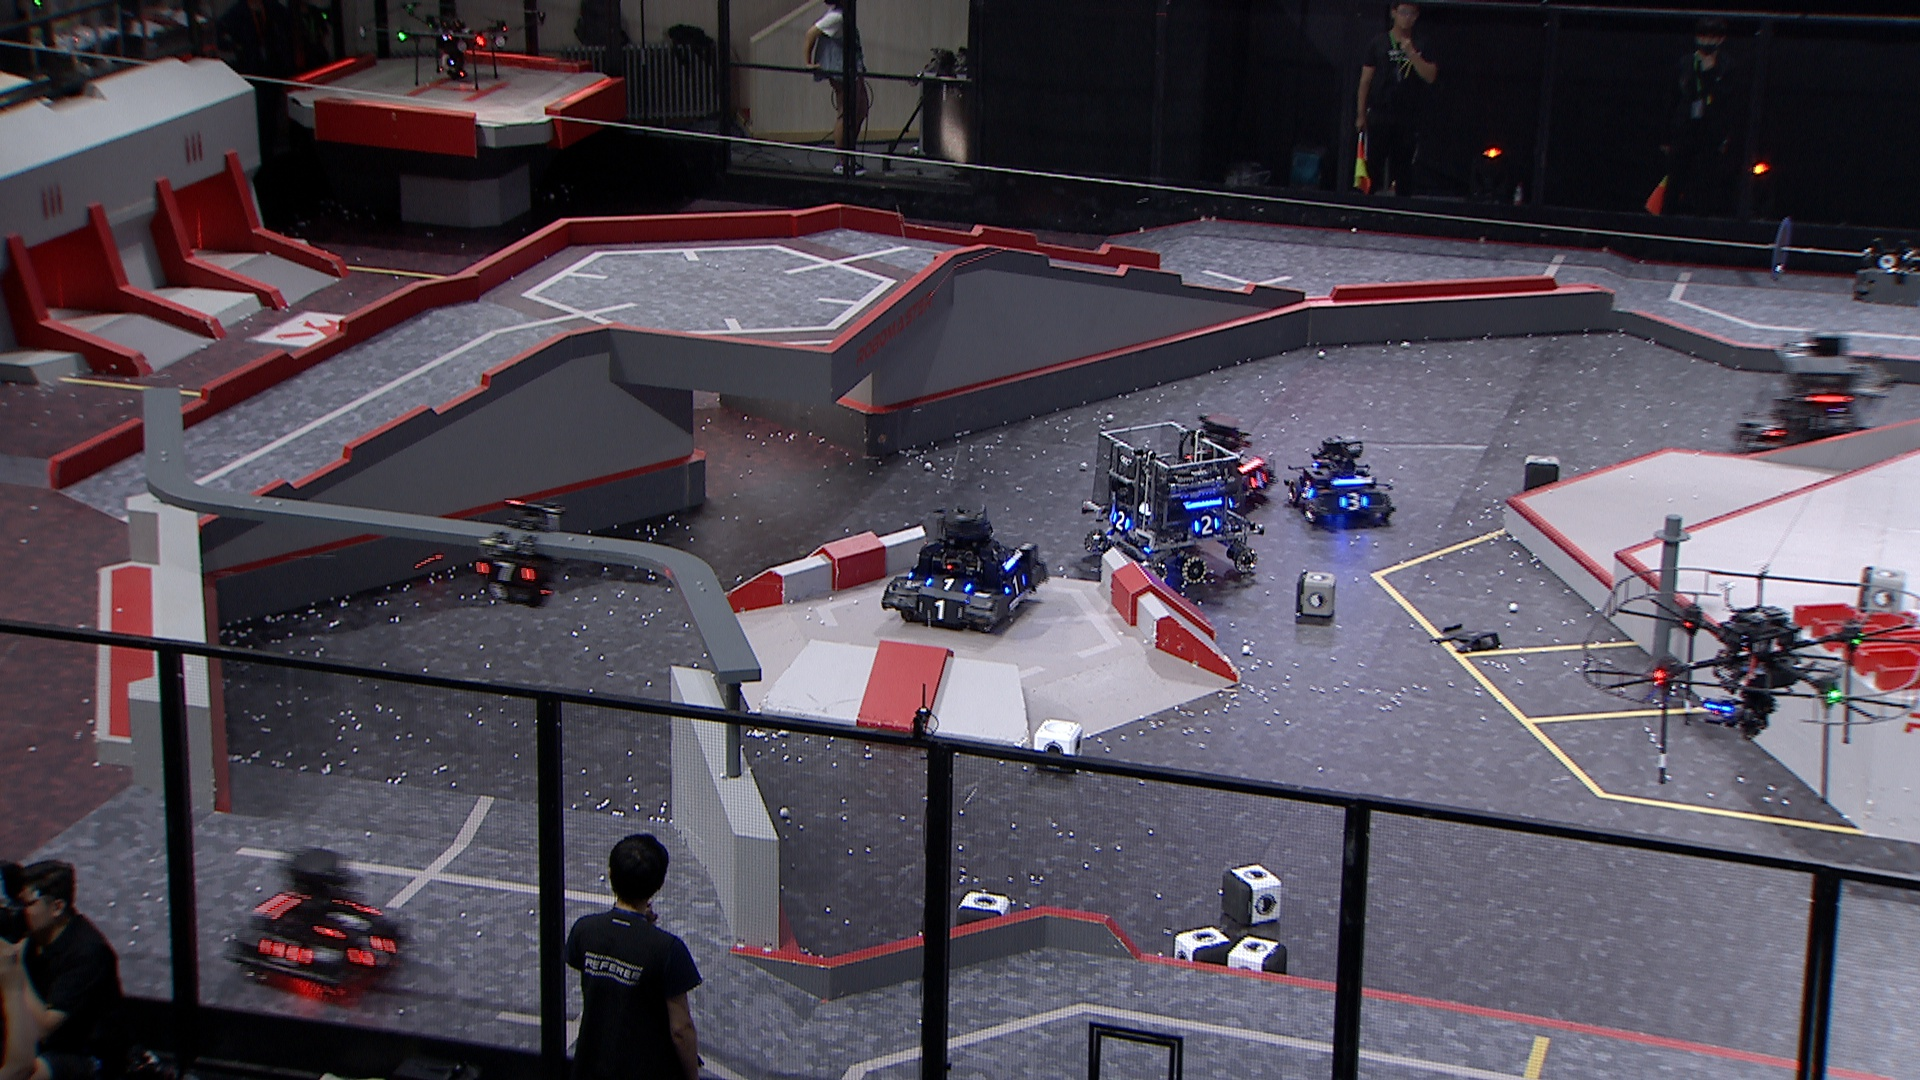armor: (313, 902, 376, 939), (256, 934, 311, 968), (475, 559, 539, 585), (348, 934, 396, 969), (916, 599, 965, 622), (1753, 418, 1788, 443), (923, 576, 975, 593), (1338, 491, 1371, 513), (1189, 514, 1224, 535), (1004, 571, 1029, 595), (1110, 509, 1133, 531), (1247, 469, 1269, 493), (1298, 479, 1317, 501)
car: (1076, 418, 1266, 593), (222, 847, 409, 1000), (880, 502, 1046, 636), (1737, 335, 1884, 471), (1172, 413, 1276, 517), (1283, 434, 1395, 529)
watcher: (467, 496, 562, 611)
